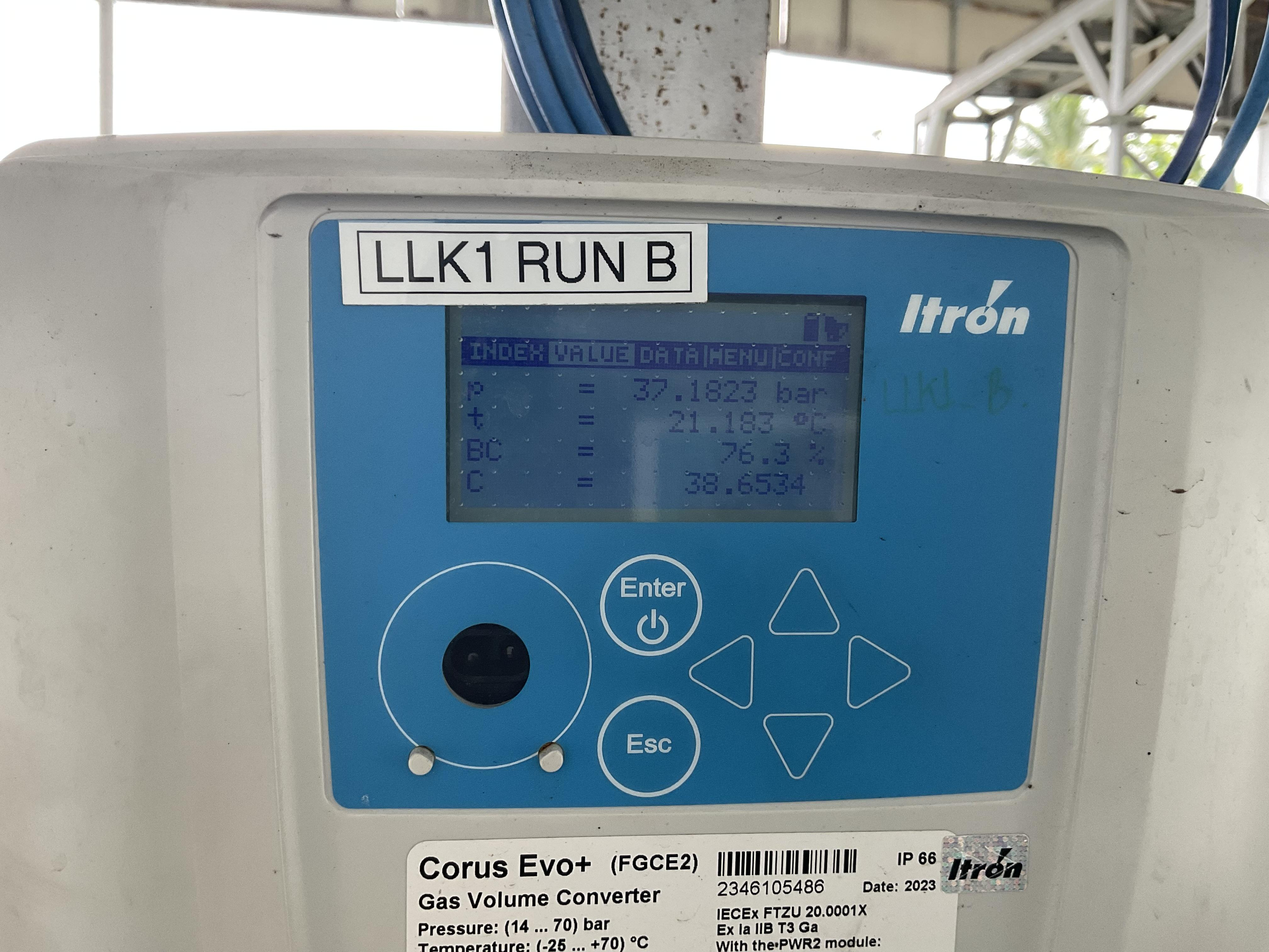digital_screen: (446, 292, 865, 522)
